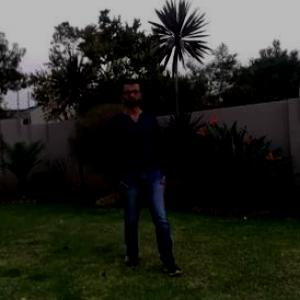follow: (113, 79, 162, 245)
